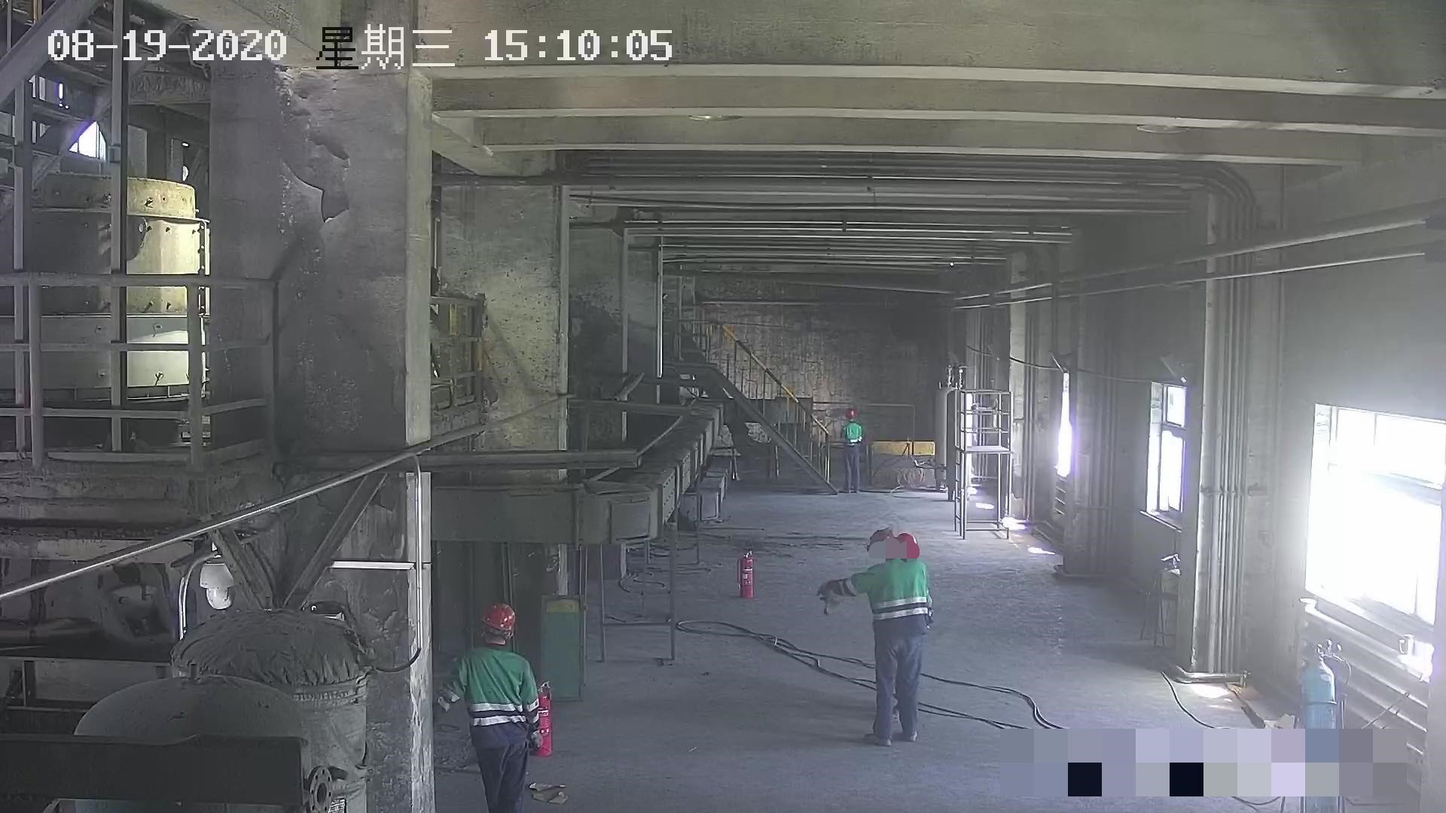hat: (482, 603, 516, 643), (868, 529, 898, 562), (845, 409, 856, 422)
person: (814, 527, 935, 744), (432, 601, 545, 811), (839, 408, 863, 493)
